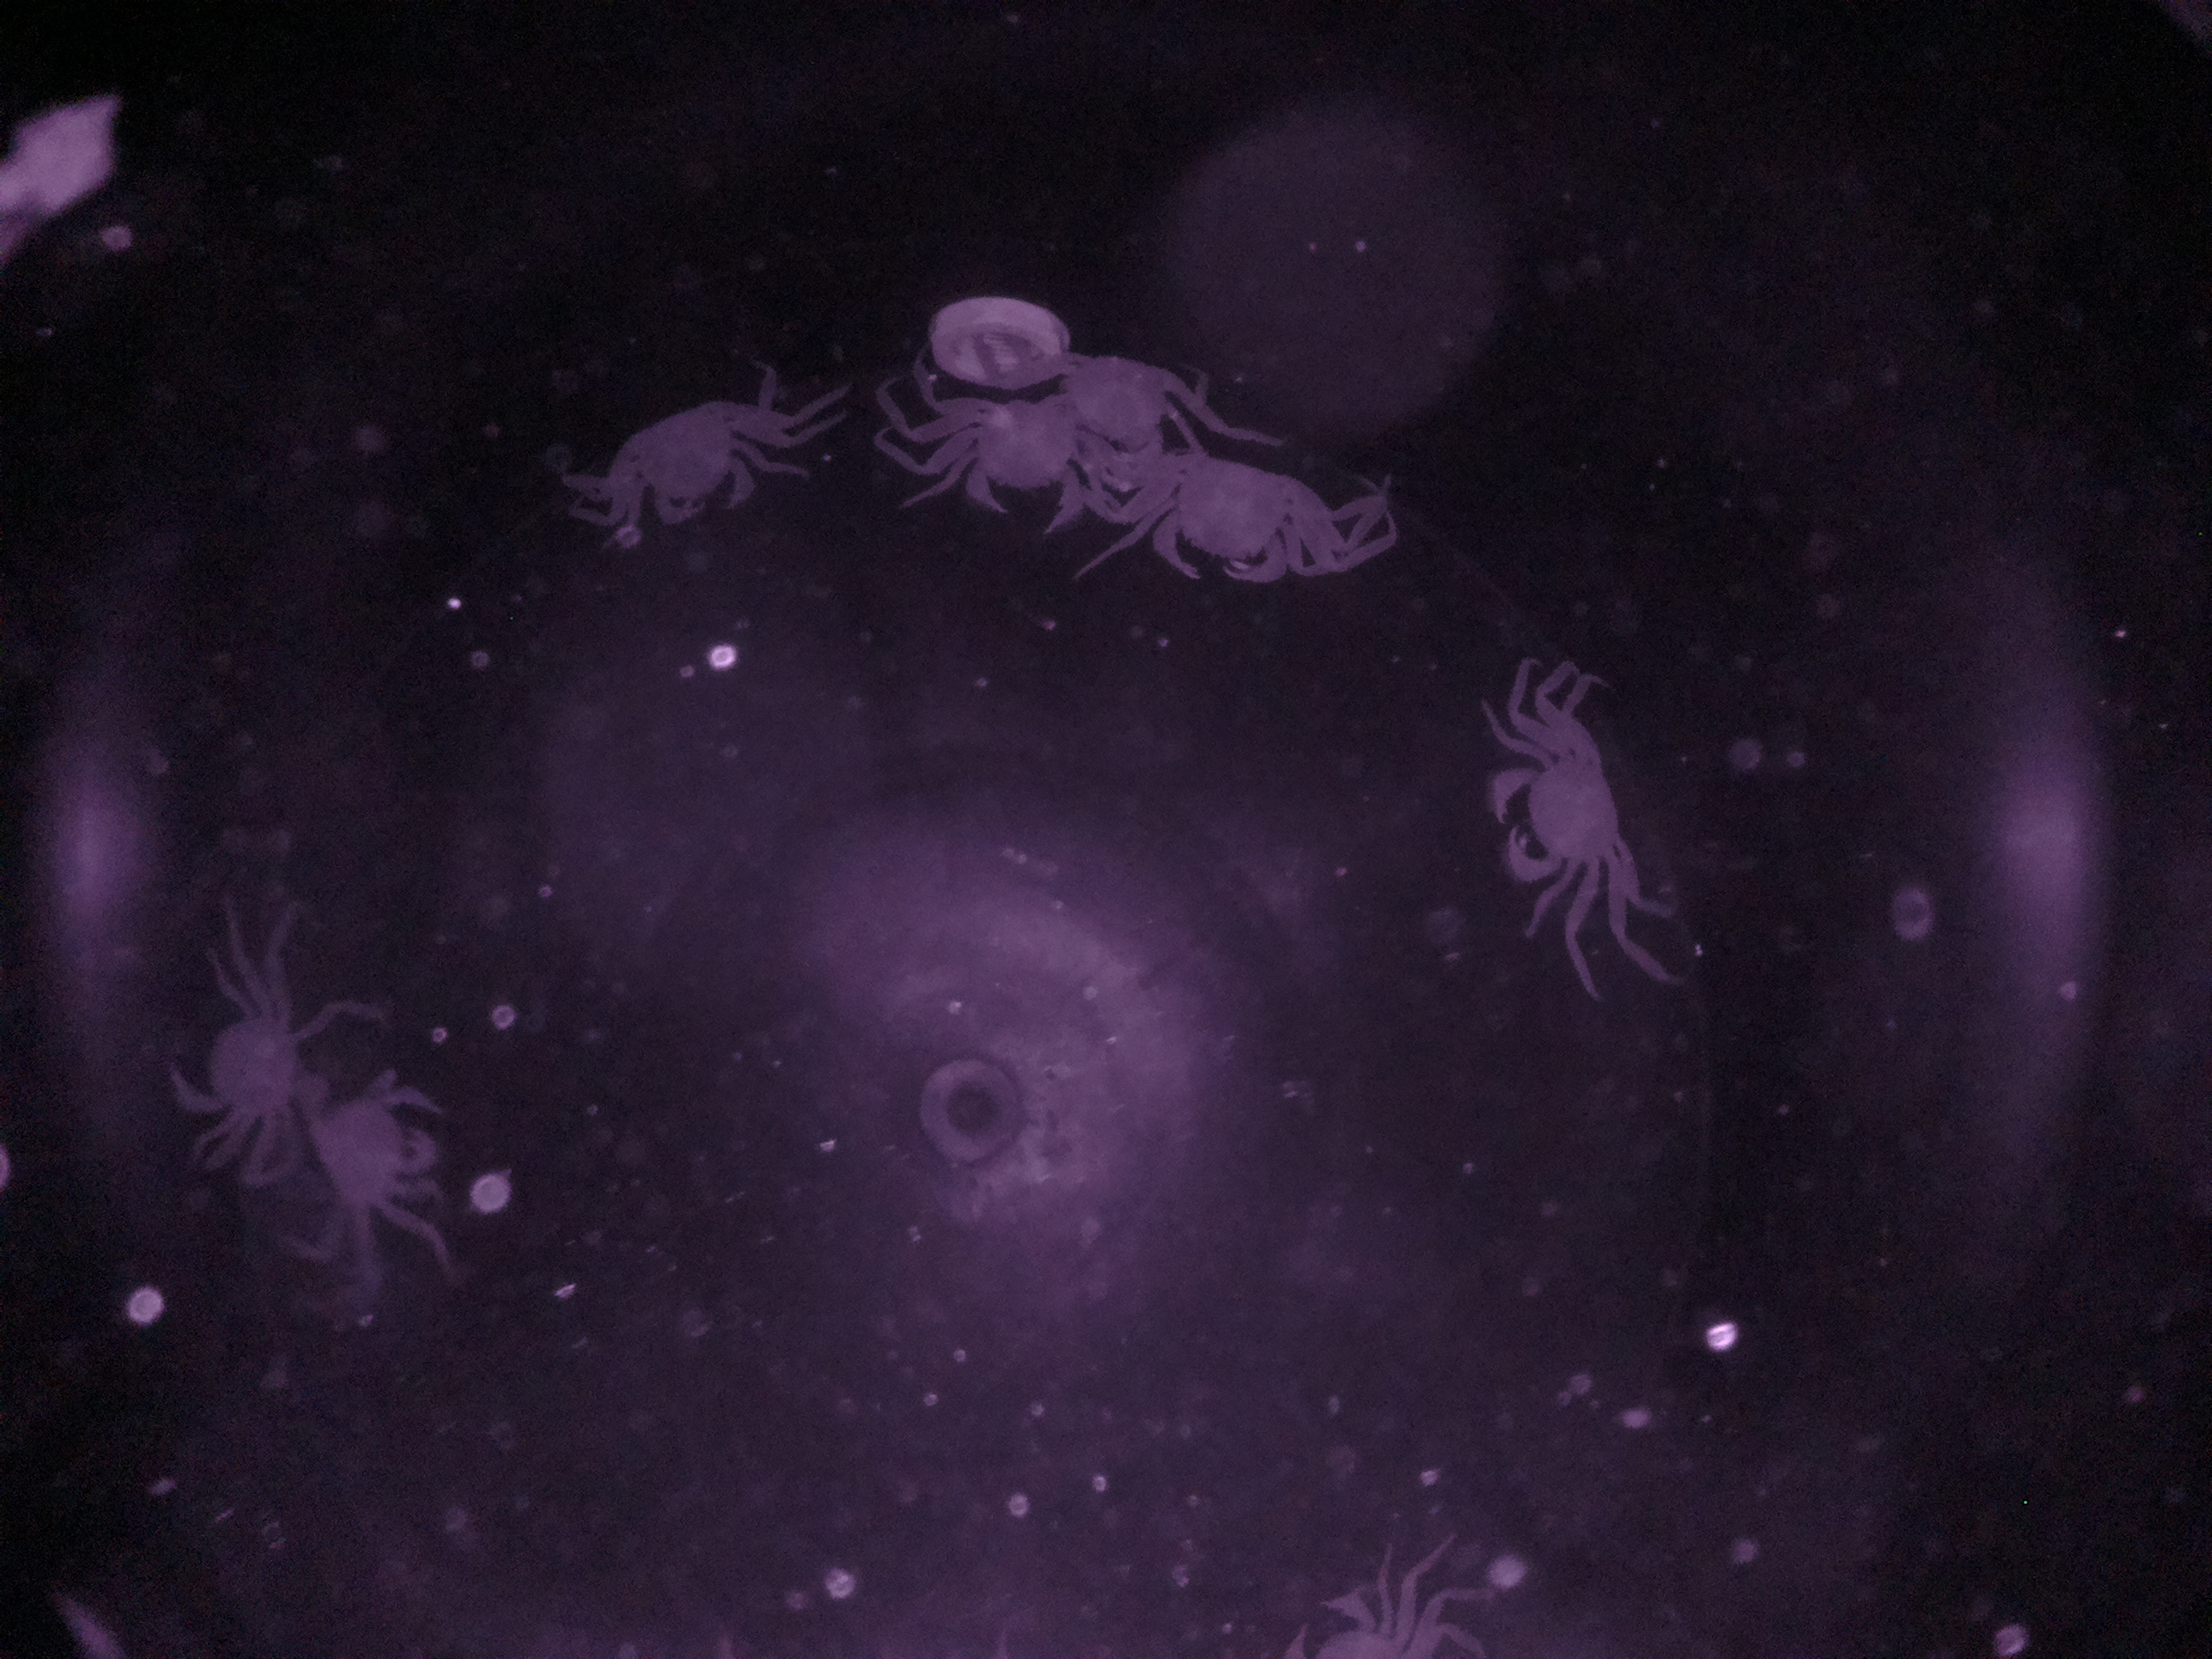Crab: (935, 371, 1118, 554), (1494, 699, 1639, 925), (1122, 436, 1312, 605), (596, 390, 782, 551)
